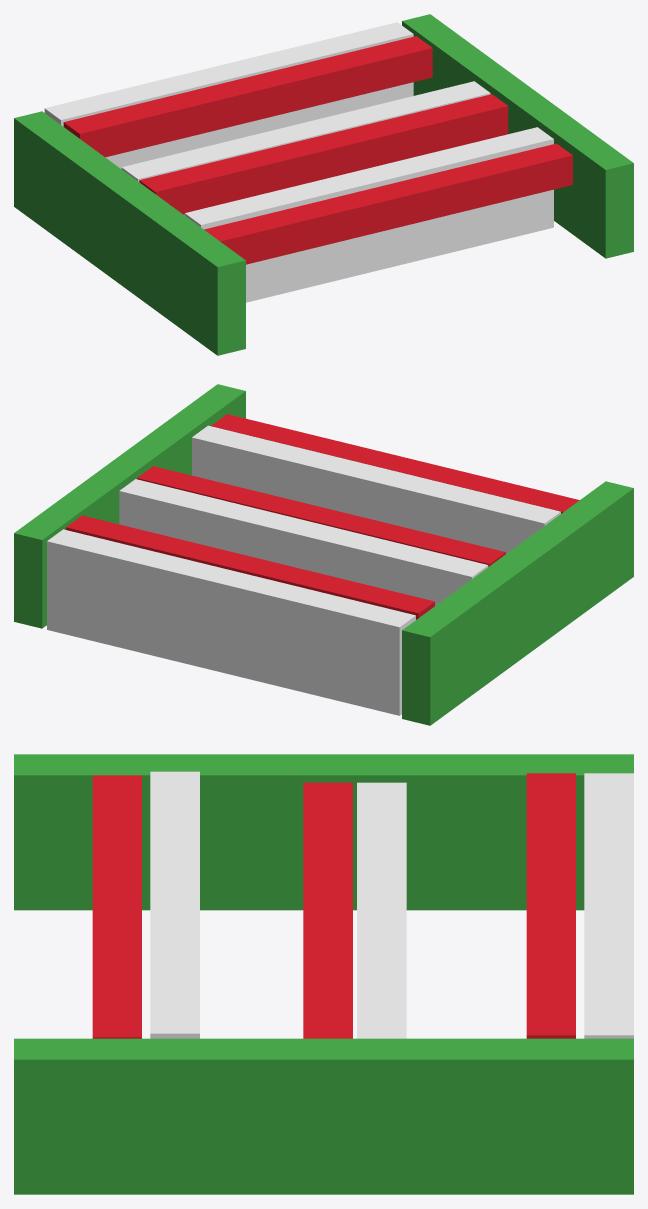
The model's file is tinker.obj.
The picture shows the model from 3 angles, top to bottom: view 1: azimuth 30°, elevation 25°; view 2: azimuth 150°, elevation 25°; view 3: azimuth 270°, elevation 25°; orthographic projection. The views are drawn at different scales.
Parts seen in each view (by area): view 1: group_0_15277357, group_0_4634441, group_0_16448250; view 2: group_0_16448250, group_0_4634441, group_0_15277357; view 3: group_0_4634441, group_0_16448250, group_0_15277357.
Boxes of the visible parts, x1=… form: group_0_15277357: x1=63, y1=36, x2=572, y2=264; group_0_4634441: x1=14, y1=14, x2=633, y2=355; group_0_16448250: x1=44, y1=22, x2=553, y2=302; group_0_16448250: x1=47, y1=425, x2=560, y2=715; group_0_4634441: x1=14, y1=384, x2=633, y2=725; group_0_15277357: x1=66, y1=414, x2=579, y2=619; group_0_4634441: x1=14, y1=754, x2=633, y2=1194; group_0_16448250: x1=150, y1=771, x2=633, y2=1038; group_0_15277357: x1=92, y1=773, x2=575, y2=1038.
Size of the model in its own units: 177 by 38 by 150.
